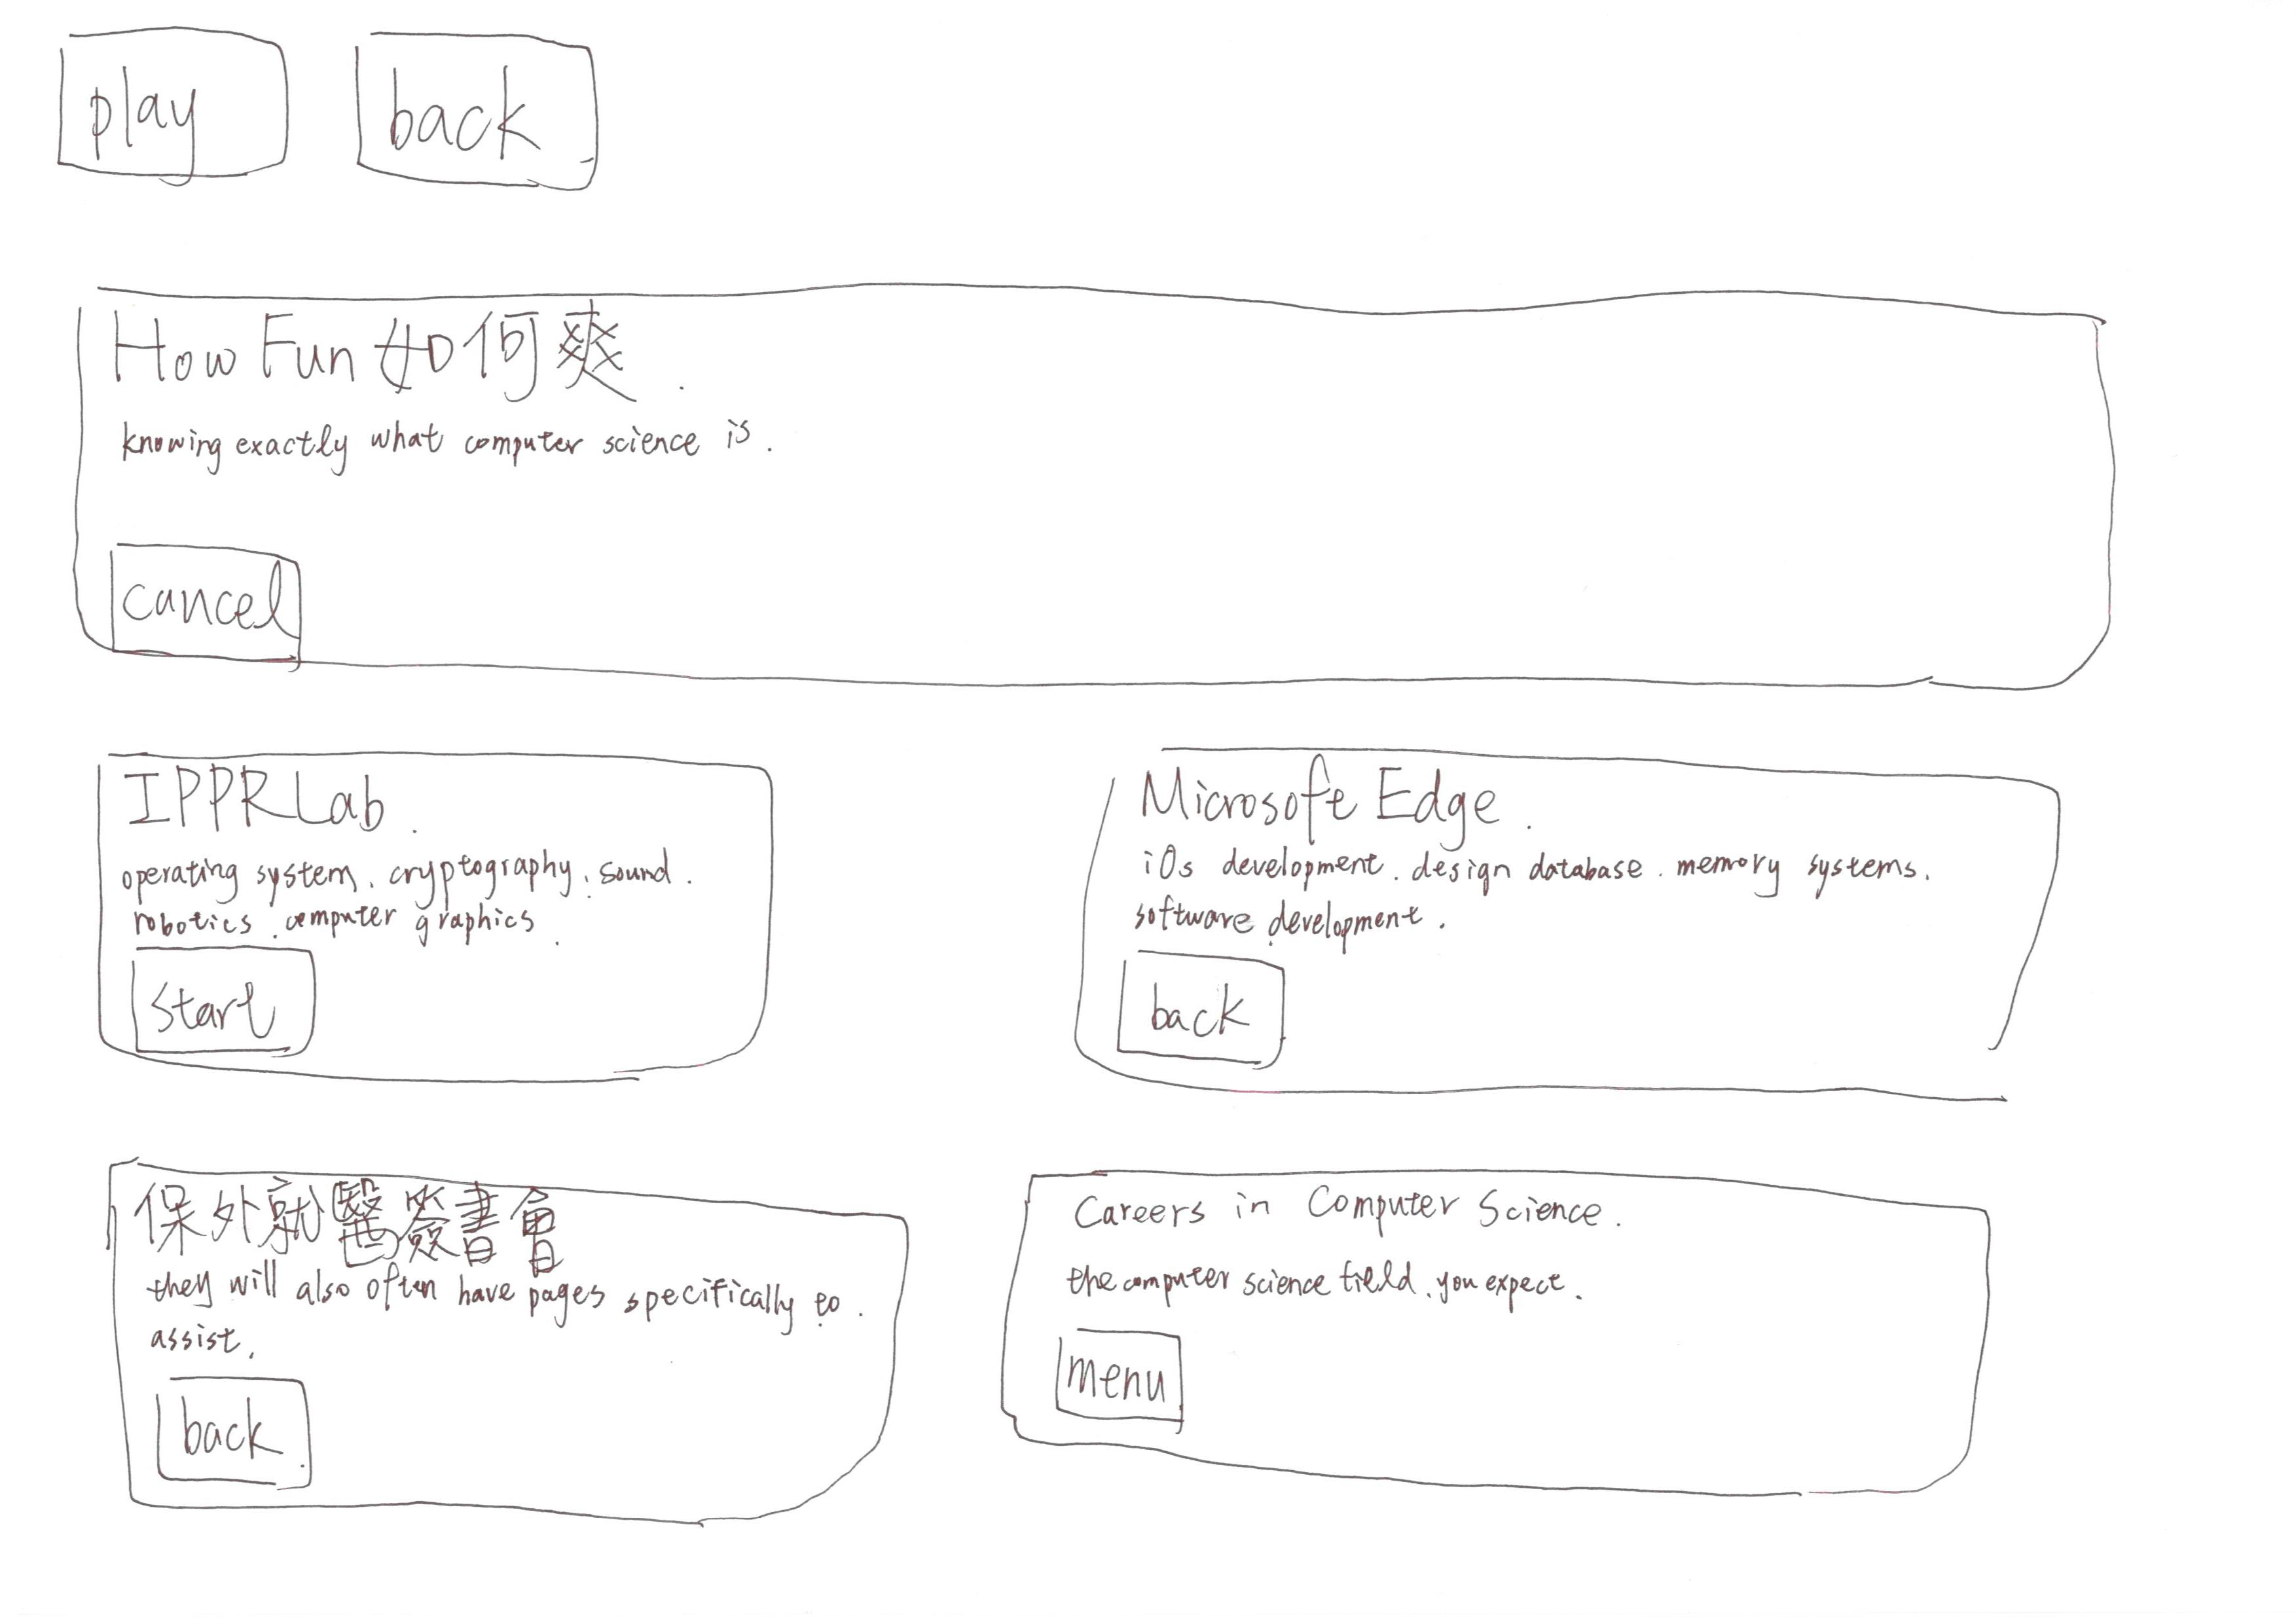back: (343, 7, 640, 223), (1102, 926, 1317, 1081), (142, 1367, 343, 1506)
cancel: (91, 533, 336, 682)
double: (981, 1146, 2094, 1531), (1046, 745, 2143, 1128), (63, 1134, 948, 1584), (54, 712, 851, 1097)
menu: (1032, 1316, 1210, 1441)
play: (25, 14, 323, 209)
row: (5, 248, 2296, 721), (5, 1123, 2296, 1596), (0, 685, 2289, 1158), (5, 7, 2296, 258)
single: (39, 257, 2150, 729)
small-title: (134, 308, 624, 401), (121, 1200, 596, 1281), (1081, 1178, 1610, 1239), (1136, 766, 1519, 828), (113, 765, 408, 838)
start: (121, 940, 353, 1076)
text: (1122, 828, 2002, 947), (155, 1272, 881, 1374), (130, 833, 694, 953), (132, 415, 775, 487), (1058, 1255, 1609, 1309)
